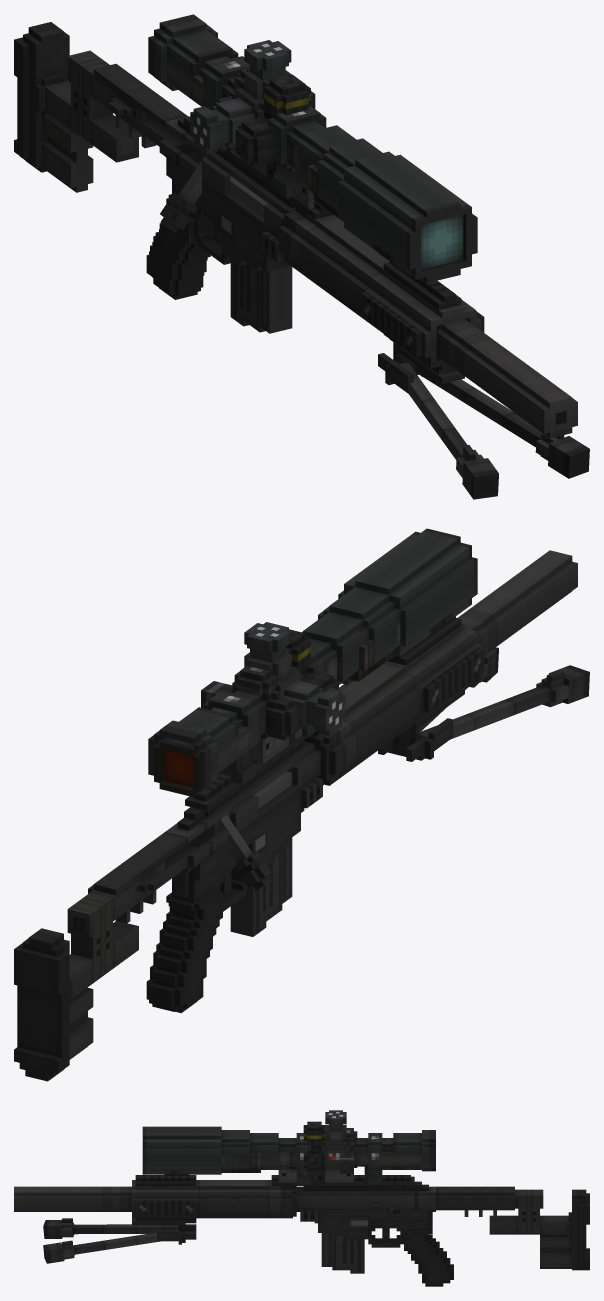
File: RD_MCMILLAN_CS5.glb
3 views of the same model, one above another, from view 1: azimuth 30°, elevation 25°; view 2: azimuth 150°, elevation 25°; view 3: azimuth 270°, elevation 25° (orthographic). The views are drawn at different scales.
Visible parts, largest first — view 1: MCMILLAN_CS5, SCOPE_LEUPOLD_ULTRA, MCMILLAN_CS5_SILENCER, SCOPE_LEUPOLD, MCMILLAN_CS5_CLIP, DIPOD2_LEG2, DIPOD2_LEG1, DIPOD2, SCOPE_NIGHTFORCE, MCMILLAN_CS5_BOLT_P2, MCMILLAN_CS5_BOLT_P1; view 2: MCMILLAN_CS5, SCOPE_LEUPOLD_ULTRA, SCOPE_NIGHTFORCE, MCMILLAN_CS5_SILENCER, SCOPE_LEUPOLD, DIPOD2_LEG1, MCMILLAN_CS5_CLIP, DIPOD2, MCMILLAN_CS5_BOLT_P2, MCMILLAN_CS5_BOLT_P1; view 3: MCMILLAN_CS5, SCOPE_LEUPOLD_ULTRA, MCMILLAN_CS5_SILENCER, SCOPE_LEUPOLD, SCOPE_NIGHTFORCE, MCMILLAN_CS5_CLIP, DIPOD2_LEG1, DIPOD2_LEG2, DIPOD2.
Boxes of the visible parts, box(x1,y1,x2,y2) form: MCMILLAN_CS5: box(14, 22, 484, 374); SCOPE_LEUPOLD_ULTRA: box(148, 14, 477, 282); MCMILLAN_CS5_SILENCER: box(436, 319, 577, 438); SCOPE_LEUPOLD: box(156, 56, 394, 264); MCMILLAN_CS5_CLIP: box(230, 258, 292, 333); DIPOD2_LEG2: box(415, 365, 589, 478); DIPOD2_LEG1: box(400, 363, 498, 499); DIPOD2: box(378, 342, 464, 393); SCOPE_NIGHTFORCE: box(164, 61, 401, 269); MCMILLAN_CS5_BOLT_P2: box(160, 156, 207, 232); MCMILLAN_CS5_BOLT_P1: box(203, 156, 269, 216); MCMILLAN_CS5: box(14, 616, 484, 1081); SCOPE_LEUPOLD_ULTRA: box(148, 528, 477, 795); SCOPE_NIGHTFORCE: box(154, 612, 452, 796); MCMILLAN_CS5_SILENCER: box(458, 550, 577, 655); SCOPE_LEUPOLD: box(159, 617, 445, 796); DIPOD2_LEG1: box(419, 665, 589, 739); MCMILLAN_CS5_CLIP: box(230, 837, 292, 936); DIPOD2: box(378, 688, 464, 761); MCMILLAN_CS5_BOLT_P2: box(218, 815, 271, 890); MCMILLAN_CS5_BOLT_P1: box(203, 767, 292, 835); MCMILLAN_CS5: box(132, 1175, 589, 1286); SCOPE_LEUPOLD_ULTRA: box(142, 1110, 435, 1184); MCMILLAN_CS5_SILENCER: box(14, 1186, 131, 1211); SCOPE_LEUPOLD: box(171, 1121, 435, 1182); SCOPE_NIGHTFORCE: box(164, 1128, 433, 1182); MCMILLAN_CS5_CLIP: box(321, 1233, 364, 1273); DIPOD2_LEG1: box(43, 1218, 178, 1238); DIPOD2_LEG2: box(43, 1229, 177, 1263); DIPOD2: box(132, 1218, 196, 1244).
Size of the model in its own units: 0.2186 by 0.5117 by 1.58.
Materials: 5 (5 with a texture image).
